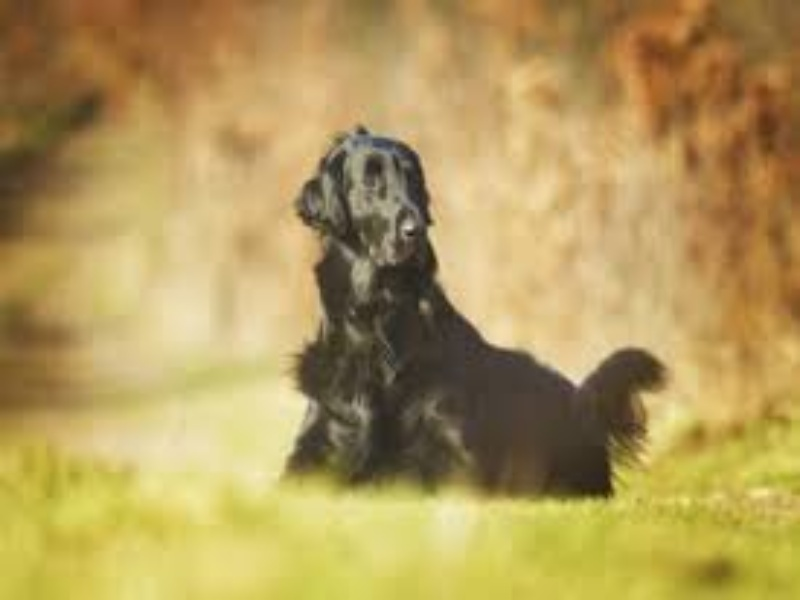dog: (287, 126, 667, 508)
